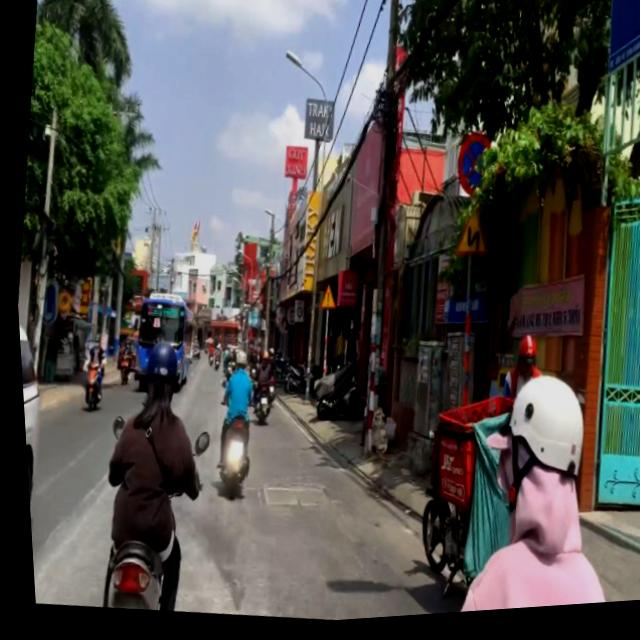Nhieu cho ngoat lien tiep ben trai: (450, 204, 493, 265)
